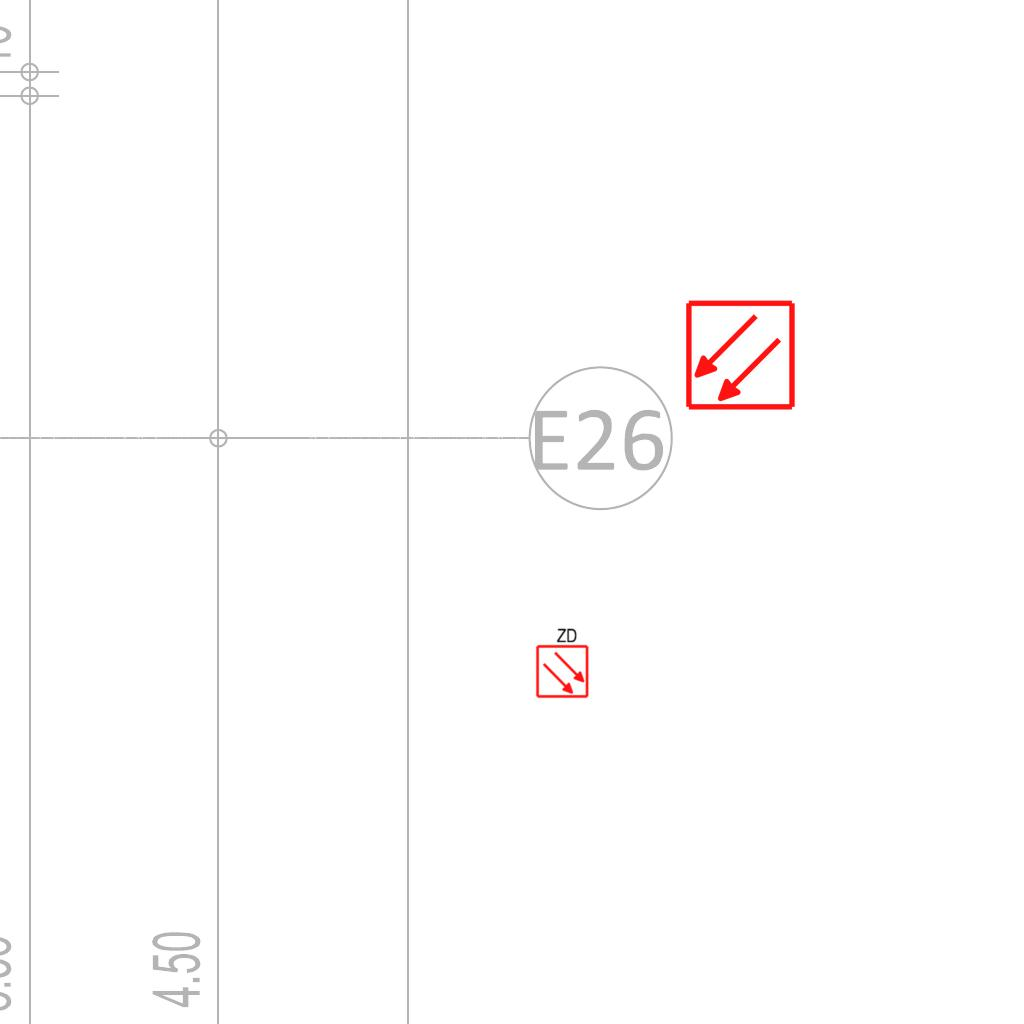RMO_Rauchmelder_optischer: (684, 299, 797, 412)
ZD_Melder_in_Zwischendecke_mit_Revisionsoeffnung_mind_40_x_40_cm: (533, 625, 590, 699)
